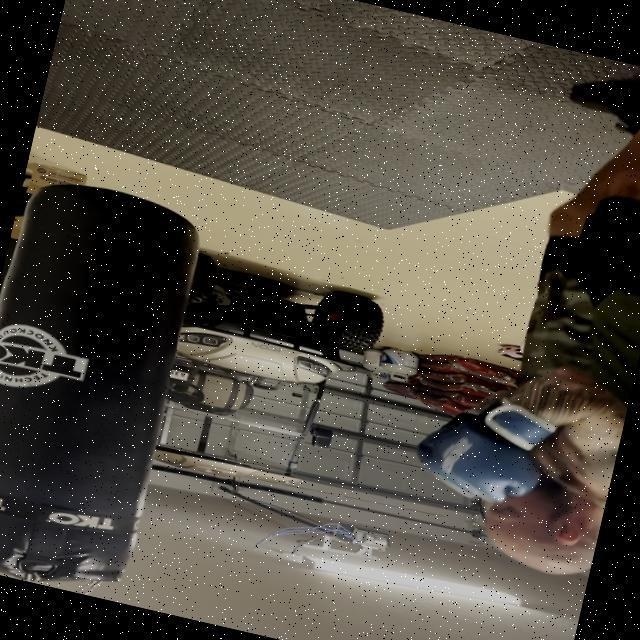bag: (468, 472, 594, 575)
